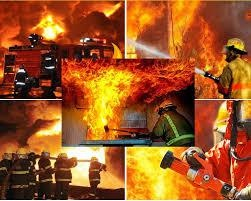fire: (69, 59, 139, 137), (29, 12, 65, 41)
